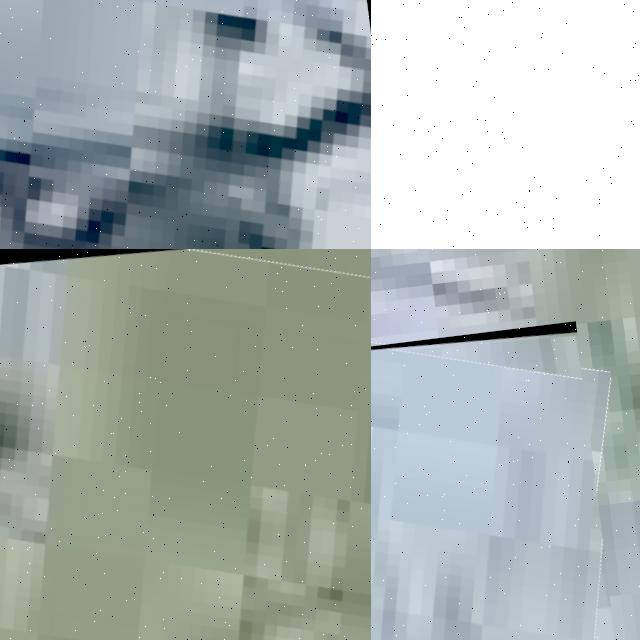drone: (0, 249, 371, 640), (0, 0, 371, 249), (371, 320, 637, 640)
